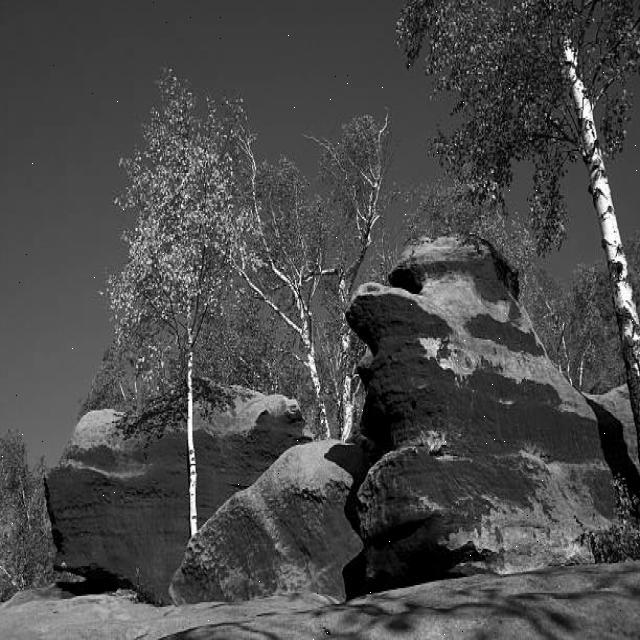Sedimentary: (346, 232, 612, 572), (198, 434, 372, 594)
